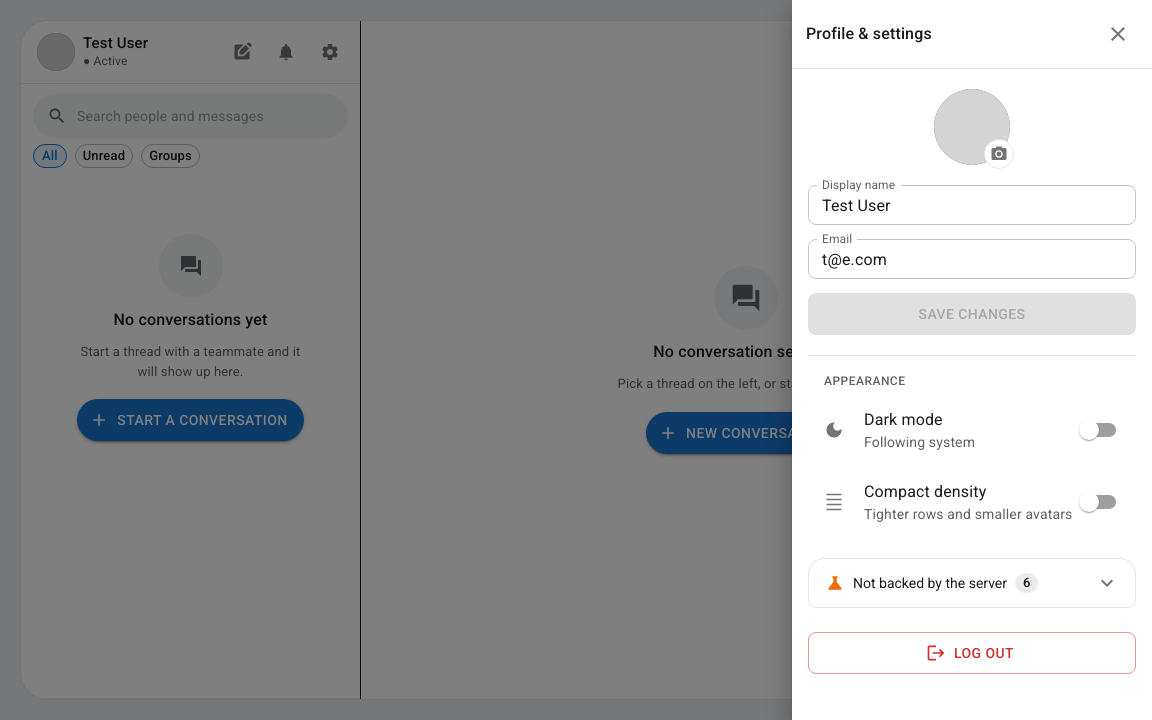
Test case: an actionable snackbar raised while the settings drawer is open › is dismissed by Escape, which hands focus back to the drawer
Check: the text "Test User" is shown, box x1=83 y1=34 x2=148 y2=52
Check: the text "Profile & settings" is shown, box x1=806 y1=24 x2=932 y2=43
Click the button named "profile photo options": (999, 154) x1=984 y1=139 x2=1014 y2=169
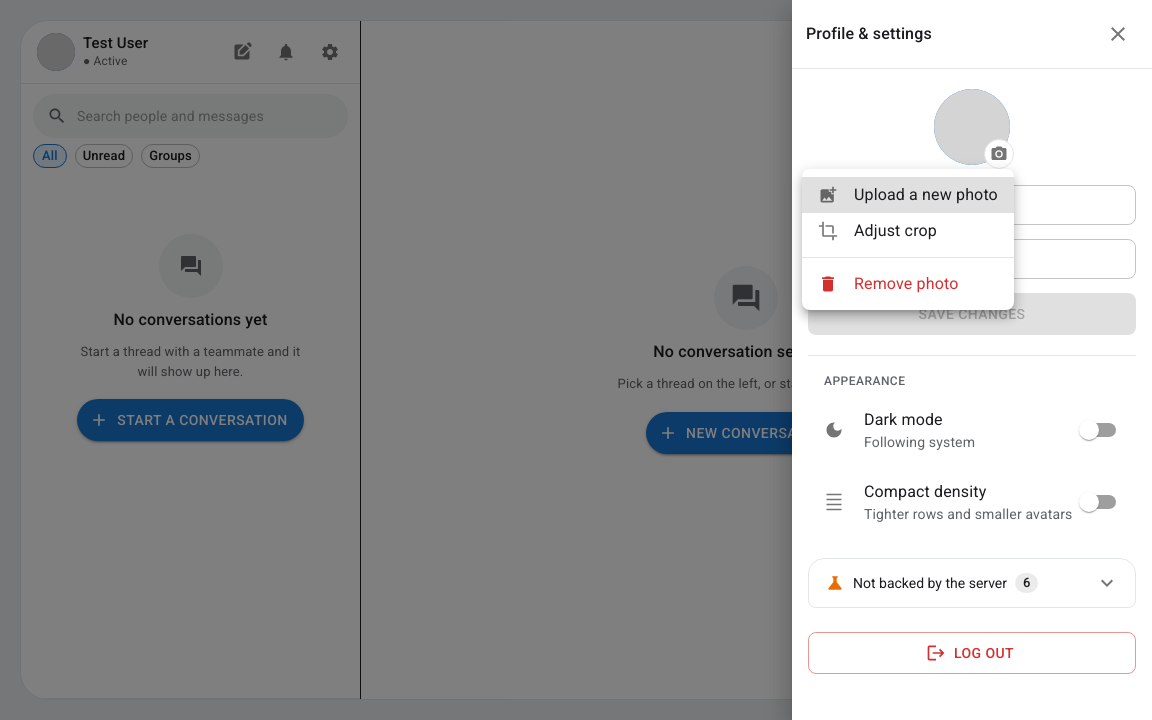
Click the menu item "Remove photo": (888, 284) x1=818 y1=274 x2=958 y2=294
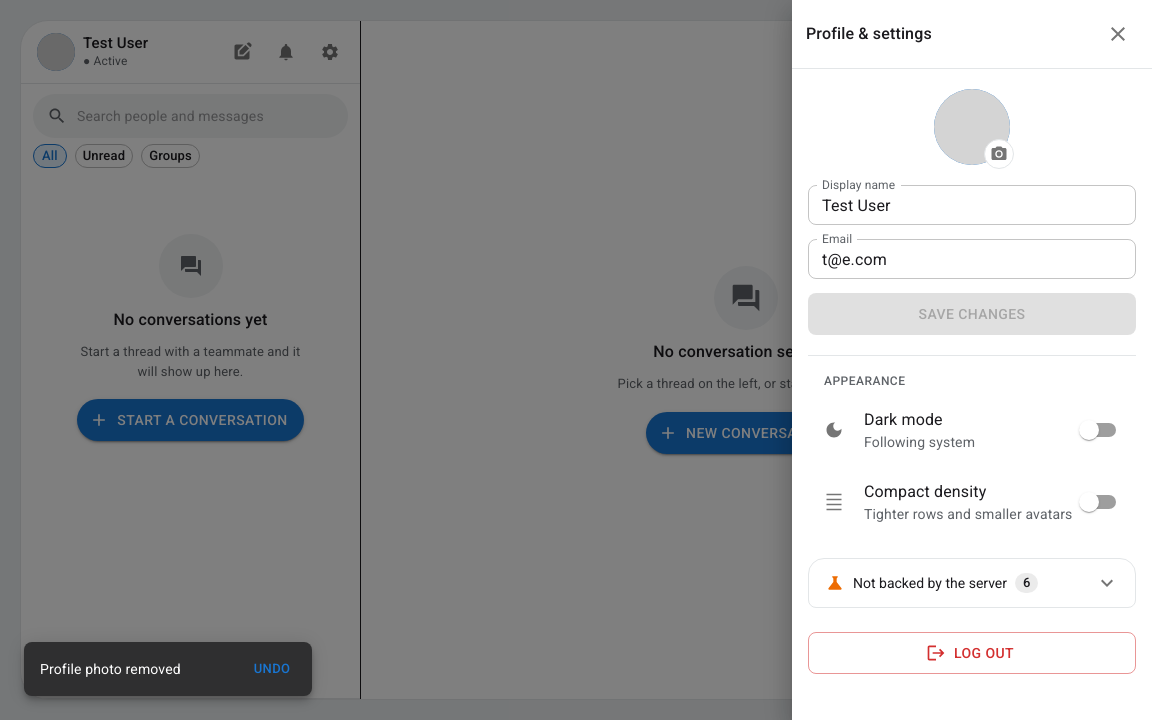
Press Escape
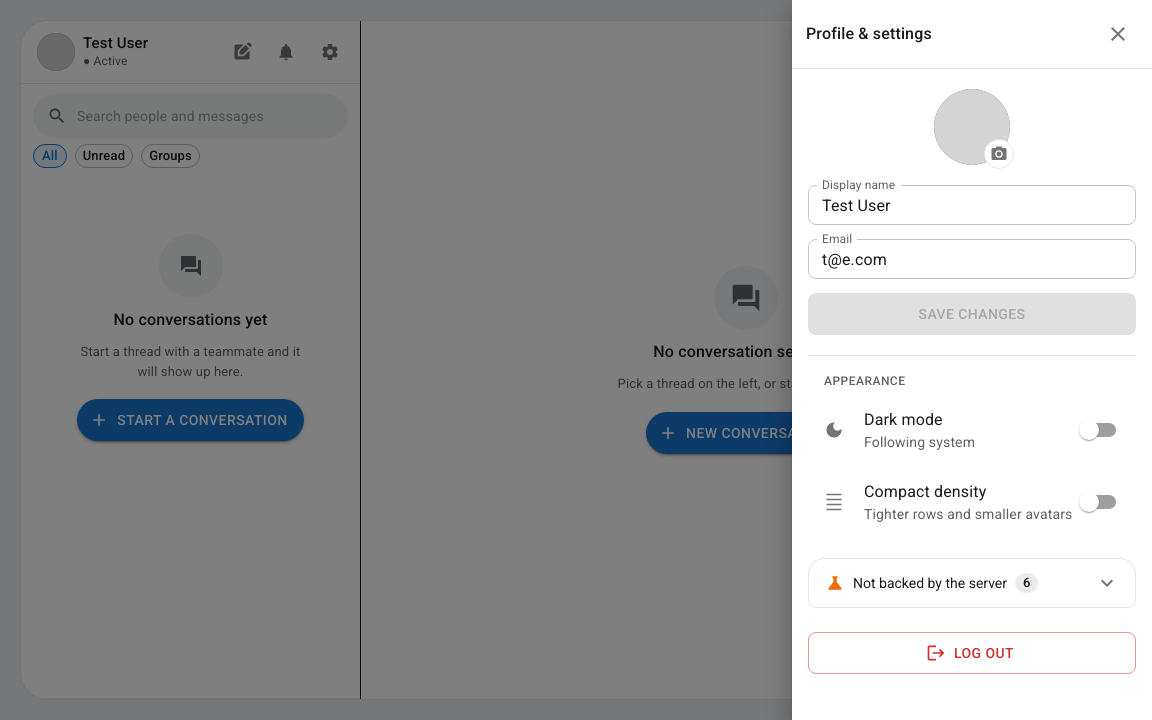
Check: the text "Profile photo removed" is gone
